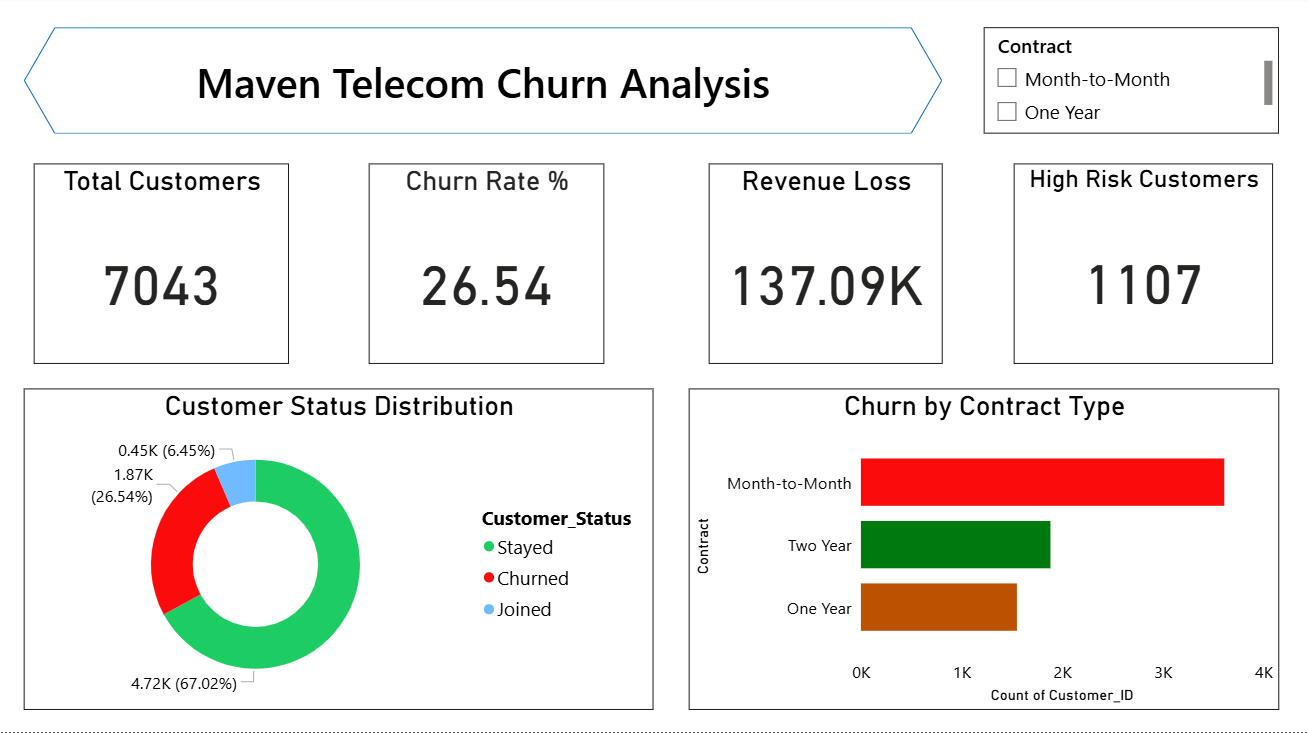

The dashboard page shown, as its layout file describes it:
{"tool":"powerbi","page":{"name":"Page 1","canvas":[1280,720],"ordinal":0},"visuals":[{"type":"card","title":"Total Customers","fields":{"Values":["CountNonNull(segmented_customers.Customer_ID)"]},"box":[32.9,163.3,249.7,196.2],"z":0},{"type":"card","title":"Churn Rate %","fields":{"Values":["segmented_customers.Churn Rate %"]},"box":[360.9,163.3,230.5,196.2],"z":1000},{"type":"card","title":"Revenue Loss ","fields":{"Values":["segmented_customers.Revenue Loss"]},"box":[693,163.3,229.2,196.2],"z":2000},{"type":"card","title":"High Risk Customers","fields":{"Values":["segmented_customers.High Risk Customers"]},"box":[992.1,163.3,253.9,196.2],"z":3000},{"type":"donutChart","title":"Customer Status Distribution","fields":{"Category":["segmented_customers.Customer_Status"],"Y":["CountNonNull(segmented_customers.Customer_ID)"]},"box":[23.3,384.2,616.1,314.2],"z":4000},{"type":"clusteredBarChart","title":"Churn by Contract Type","fields":{"Category":["segmented_customers.Contract"],"Y":["CountNonNull(segmented_customers.Customer_ID)"]},"box":[673.8,384.2,577.7,314.2],"z":5000},{"type":"shape","box":[22.9,30,898.6,104.3],"z":6000},{"type":"slicer","fields":{"Values":["segmented_customers.Contract"]},"box":[962.9,30,288.6,104.3],"z":6001}]}

Visuals, with their boxes in screenshot pixels (x1, y1, x2, y2), scaled from the page's 1280x720 canvas onto the 1308x733 screenshot:
"Total Customers" card: <bbox>34, 166, 289, 366</bbox>
"Churn Rate %" card: <bbox>369, 166, 604, 366</bbox>
"Revenue Loss " card: <bbox>708, 166, 942, 366</bbox>
"High Risk Customers" card: <bbox>1014, 166, 1273, 366</bbox>
"Customer Status Distribution" donutChart: <bbox>24, 391, 653, 711</bbox>
"Churn by Contract Type" clusteredBarChart: <bbox>689, 391, 1279, 711</bbox>
shape: <bbox>23, 31, 942, 137</bbox>
slicer - segmented_customers.Contract: <bbox>984, 31, 1279, 137</bbox>
